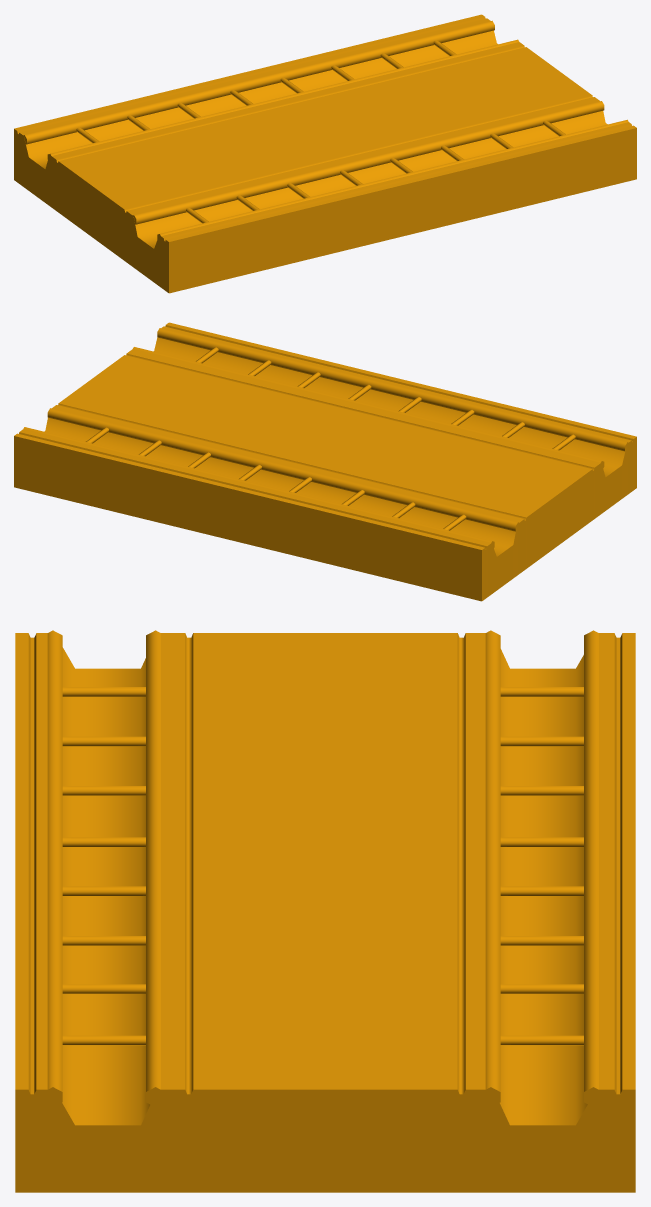
Rendered from GDT_GroundPlat.fbx.
3 renders of one model, top to bottom at view 1: azimuth 30°, elevation 25°; view 2: azimuth 150°, elevation 25°; view 3: azimuth 270°, elevation 25°, orthographic. The views are drawn at different scales.
Visible parts, largest first — view 1: GroundPlat; view 2: GroundPlat; view 3: GroundPlat.
Boxes of the visible parts, <box> form: GroundPlat: <box>14,14,636,293</box>; GroundPlat: <box>14,322,636,601</box>; GroundPlat: <box>15,630,635,1192</box>.
Bounding box in the file's own units: 67.4 × 7.27 × 38.67.
